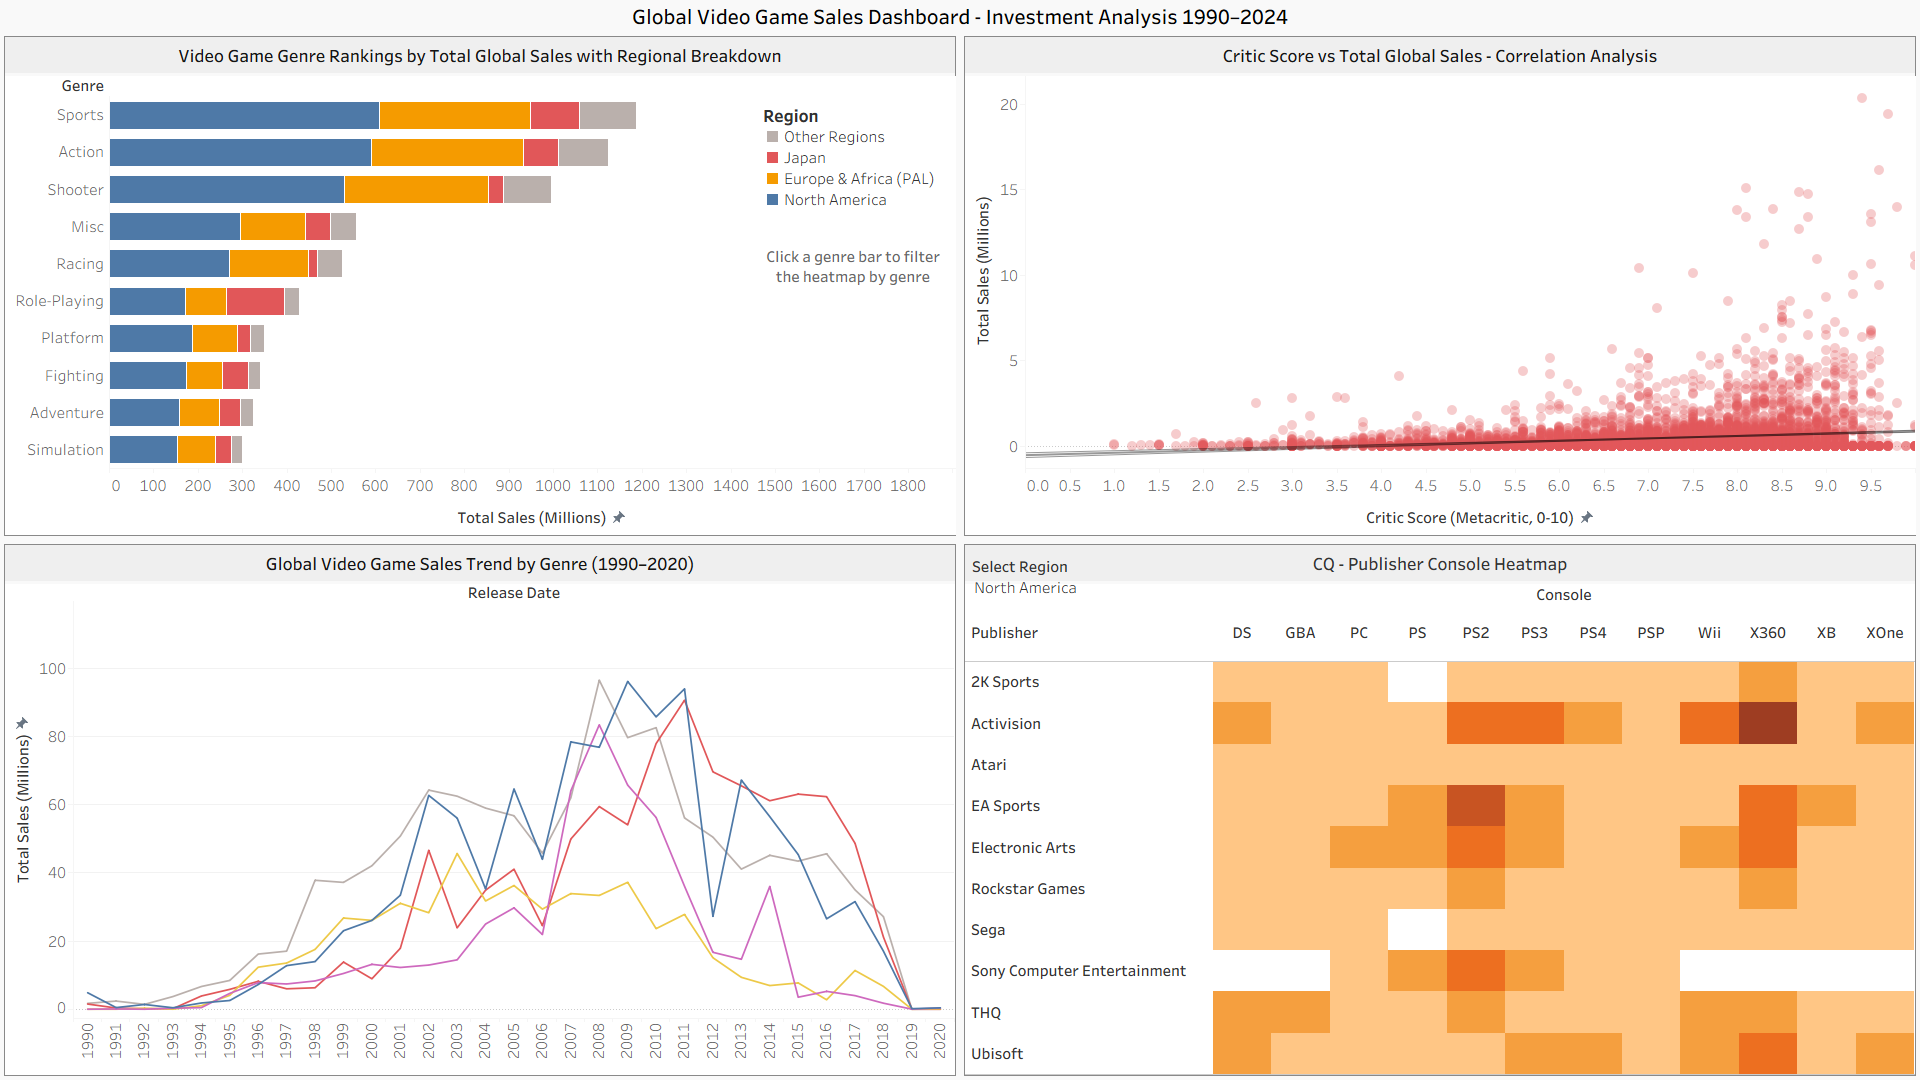

This screenshot's page, from the dashboard's own definition file:
{"tool":"tableau","page":{"name":"Dashboard 1","canvas":[1920,1080],"ordinal":0},"visuals":[{"type":"title","box":[0,0,1920,32]},{"type":"worksheet","title":"SQ1 - Genre Sales by Region","mark":"Automatic","rows":["Genre"],"box":[0,32,960,507.6]},{"type":"worksheet","title":"SQ2- Critic Scores vs Sales","mark":"Circle","rows":["Total_Sales"],"cols":["Critic_Score"],"box":[960,32,960,507.6]},{"type":"legend","title":"SQ1 - Genre Sales by Region","param":"[federated.1bk7y1316vb3ml13s5kvj0c2n98y].[:Measure Names]","box":[762,101.5,178,136.1]},{"type":"text","box":[760,232.2,186,69.1]},{"type":"worksheet","title":"SQ3 - Sales Trend Over Time","mark":"Automatic","rows":["Total_Sales"],"cols":["Release_Date"],"box":[0,539.6,959.9,540.4]},{"type":"worksheet","title":"CQ - Publisher Console Heatmap","mark":"Square","rows":["Publisher"],"cols":["Console"],"box":[959.9,539.6,960.1,540.4]},{"type":"parameter","param":"[Parameters].[Parameter 1]","box":[972,555.1,143,65.9]}]}

Visuals, with their boxes in screenshot pixels (x1, y1, x2, y2), scaled from the page's 1920x1080 canvas onto the 1920x1080 screenshot:
title: bbox=[0, 0, 1919, 32]
"SQ1 - Genre Sales by Region" worksheet: bbox=[0, 32, 960, 540]
"SQ2- Critic Scores vs Sales" worksheet (Circle marks): bbox=[960, 32, 1919, 540]
"SQ1 - Genre Sales by Region" legend: bbox=[762, 102, 940, 238]
text: bbox=[760, 232, 946, 301]
"SQ3 - Sales Trend Over Time" worksheet: bbox=[0, 540, 960, 1079]
"CQ - Publisher Console Heatmap" worksheet (Square marks): bbox=[960, 540, 1919, 1079]
parameter: bbox=[972, 555, 1115, 621]
